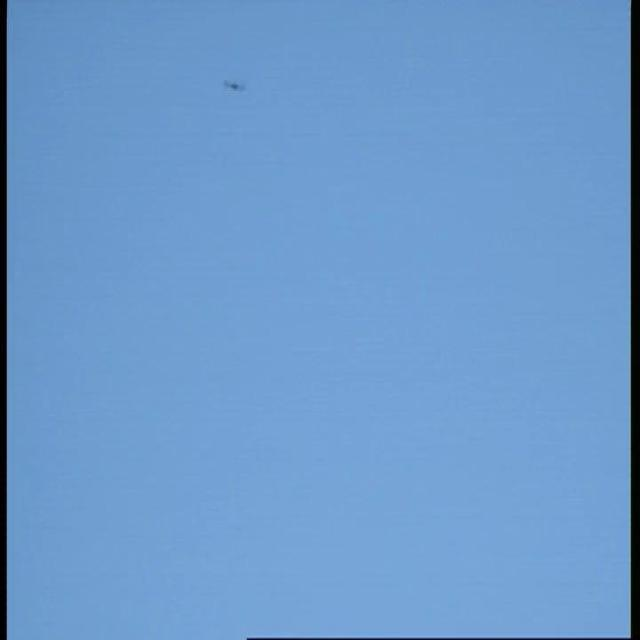drone: (216, 71, 252, 98)
